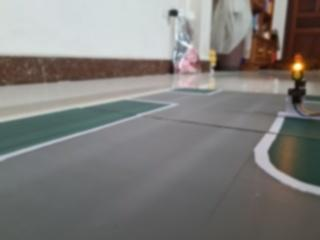yellow: (286, 48, 312, 88)
